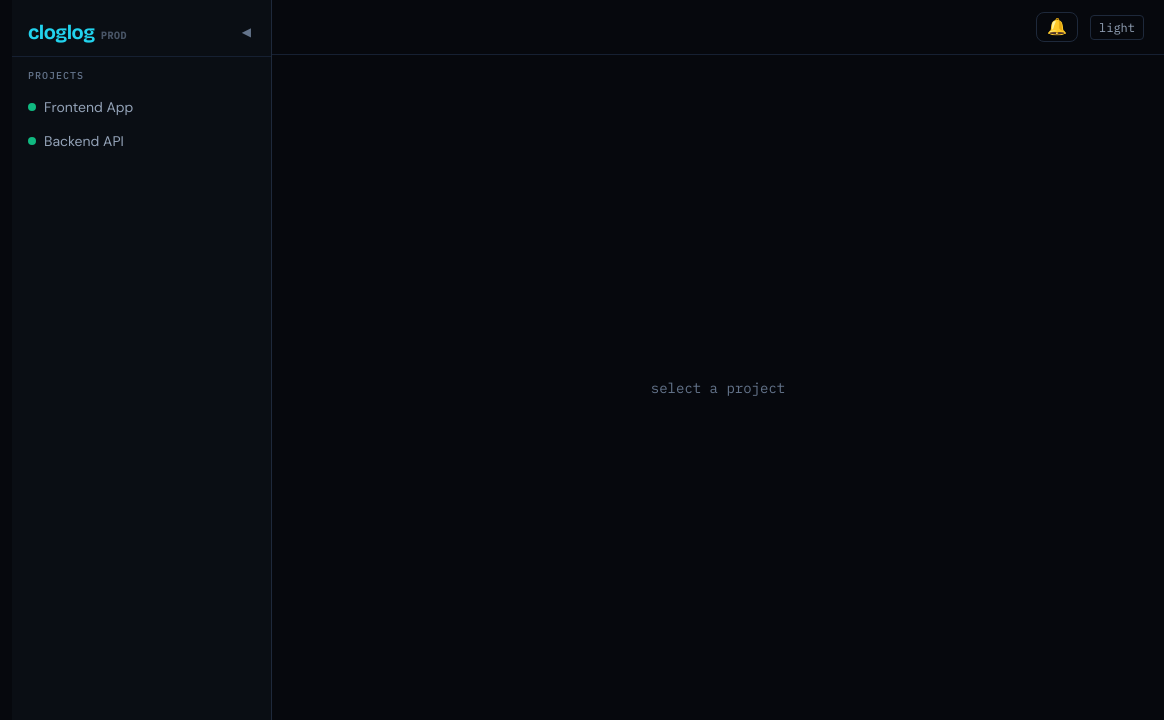
it: App integration › selecting a project loads the board
Check: the text "Frontend App" is shown, box left=44, top=98, right=133, bottom=116
Click the button "Frontend App". click: (142, 107)
box: left=12, top=90, right=271, bottom=124
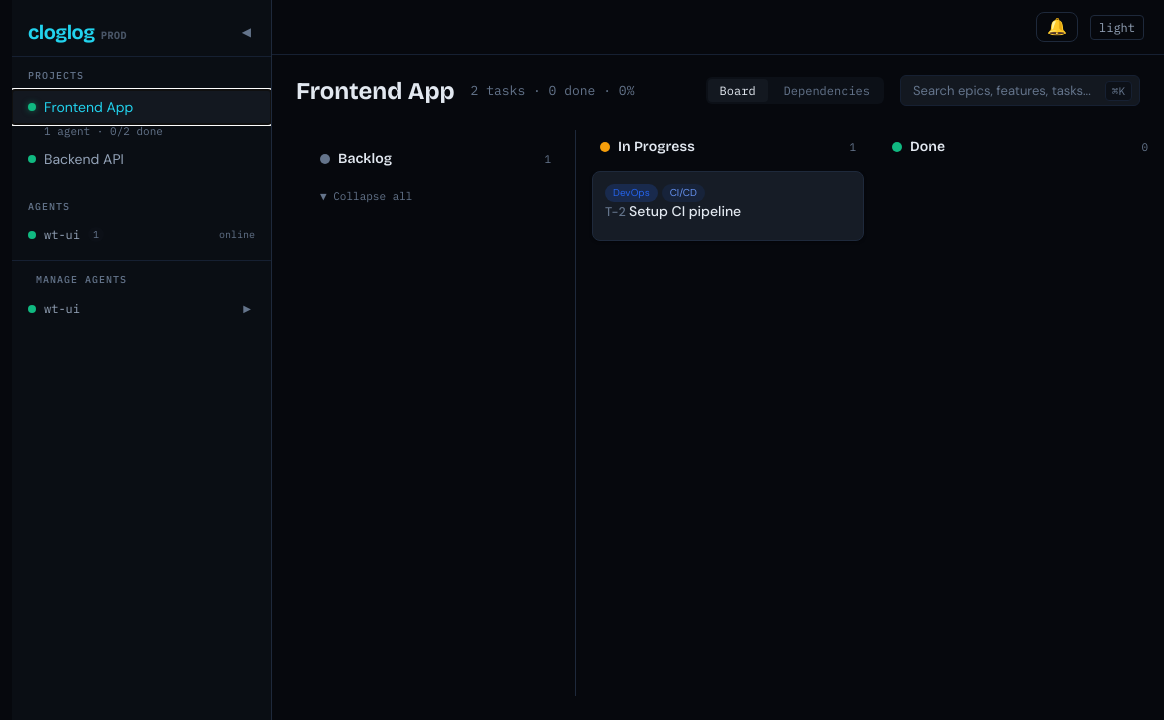
Check: the text "Setup CI pipeline" is shown, box left=629, top=202, right=741, bottom=220
